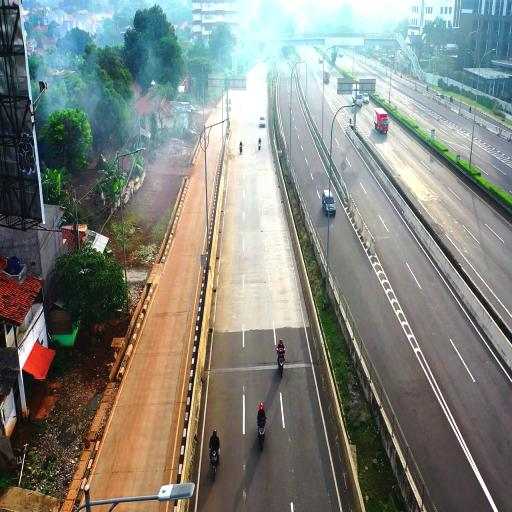vehicle: (375, 110, 389, 135), (322, 192, 336, 216)
